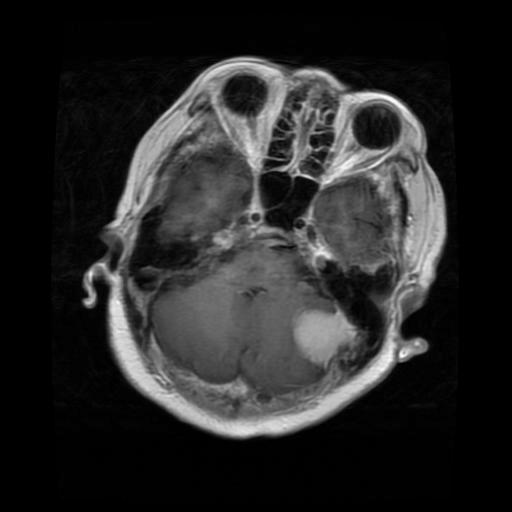Tumour-Pituitary: (265, 300, 386, 383)
